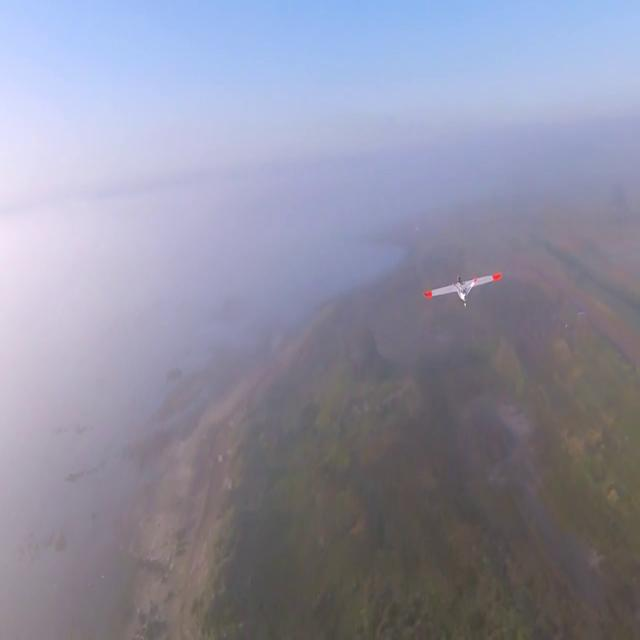iha: (458, 275, 470, 307)
